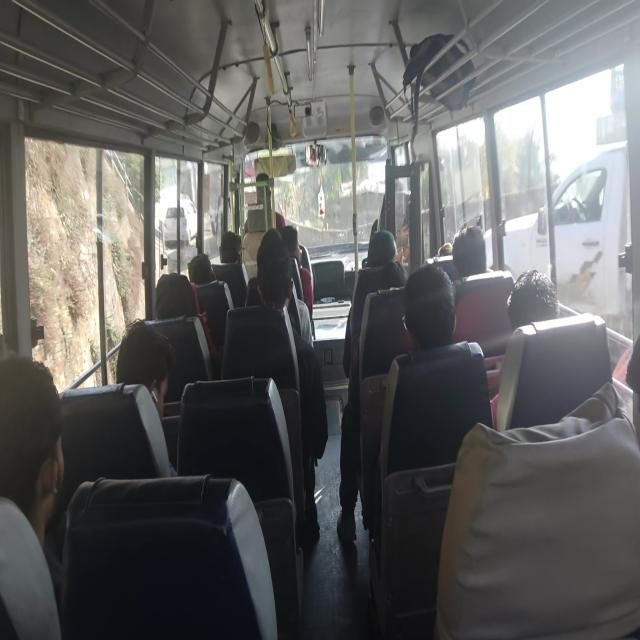person: (0, 376, 93, 546), (403, 269, 470, 360), (108, 332, 176, 412), (504, 278, 563, 330), (252, 253, 299, 308), (619, 340, 640, 454), (148, 272, 196, 318), (458, 230, 491, 282), (215, 228, 248, 276), (376, 260, 411, 298), (184, 243, 209, 283), (279, 223, 308, 257), (367, 236, 400, 260), (256, 229, 286, 254), (436, 238, 454, 258)
